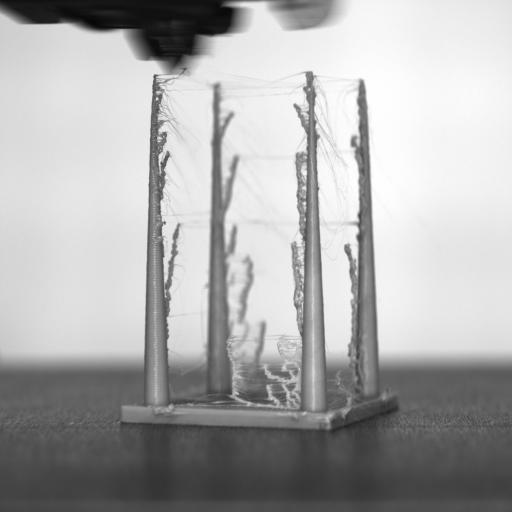spaghetti_and_stringing: (156, 75, 365, 403)
